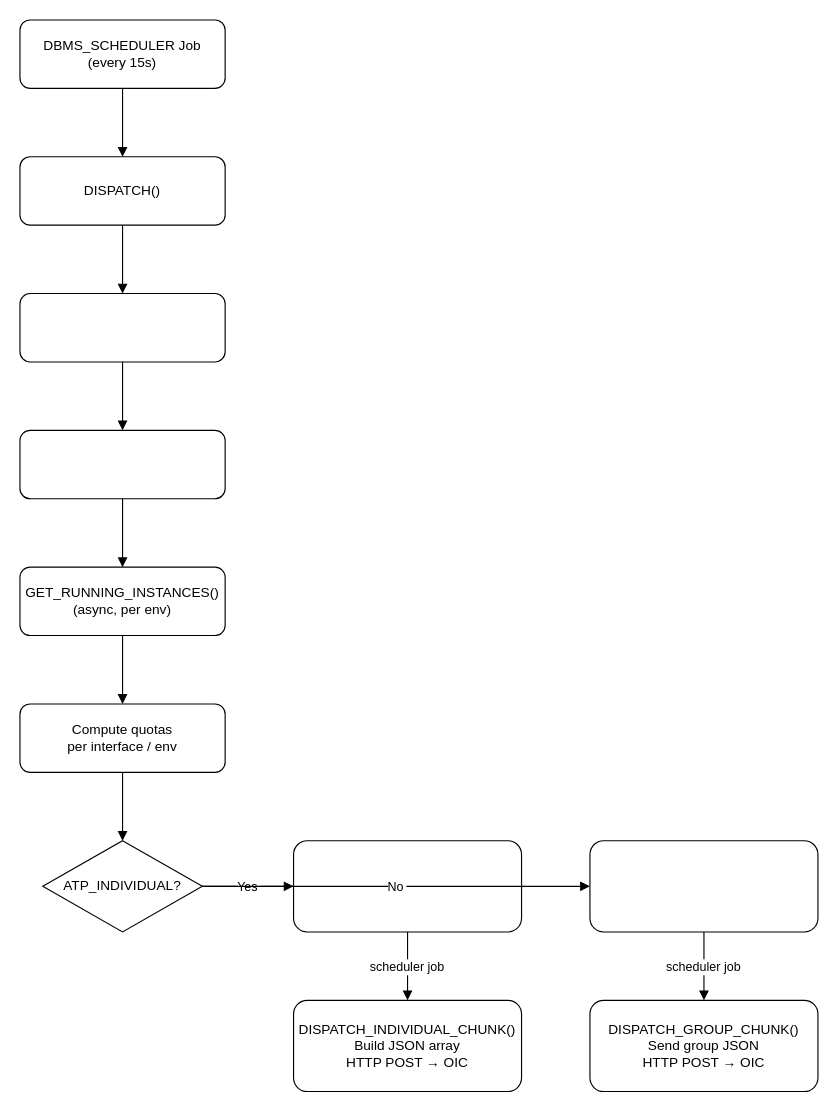
The diagram is 838 pixels wide and 1112 high, and some of its shapes have lost their labels. The box of each missing label's shape, as (x1, y1, x2, y2) in pixels:
Load interfaces + environments: (19, 429, 225, 499)
p_dispatch_group_intf() Assign CHUNK_IDs Set STATUS=PROCESSING: (589, 840, 818, 932)
p_dispatch_individual_intf() Assign CHUNK_IDs Set STATUS=PROCESSING: (292, 840, 522, 932)
REMOVE_DUPLICATES() SEQUENCE_MSGS(): (19, 292, 225, 362)
